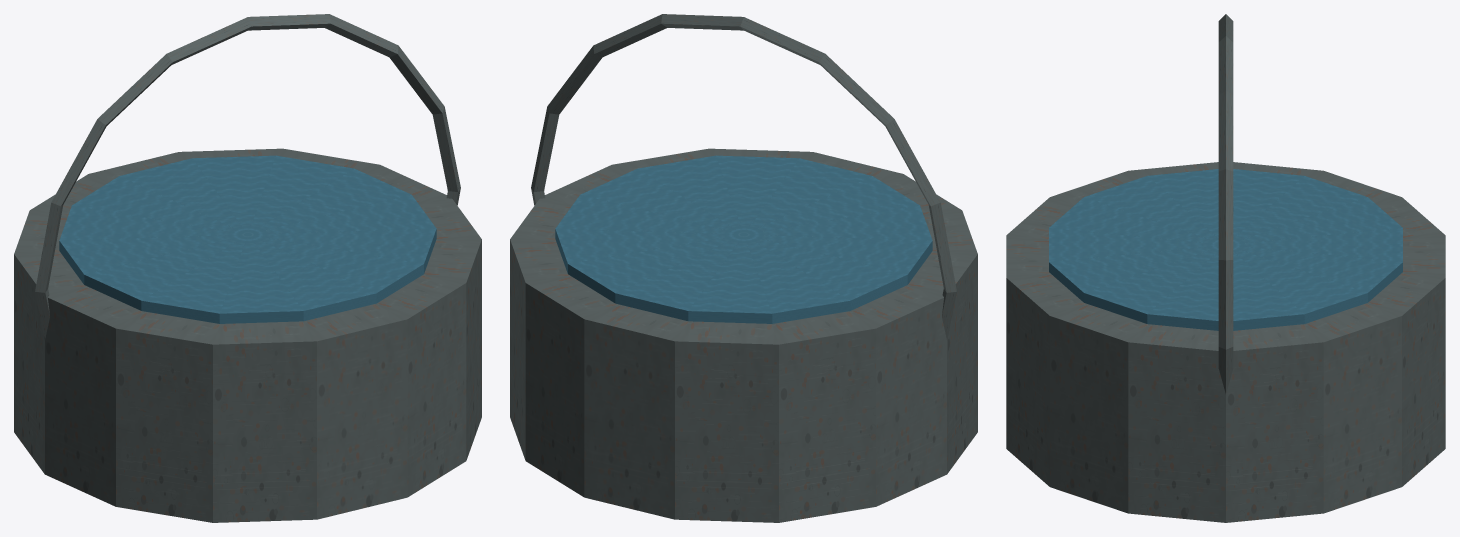
Rendered from en-020_rain_catcher_placement_set__basin.obj.
The picture shows the model from 3 angles, left to right: view 1: azimuth 30°, elevation 25°; view 2: azimuth 150°, elevation 25°; view 3: azimuth 270°, elevation 25°; orthographic projection. The views are drawn at different scales.
Parts seen in each view (by area): view 1: en-020_rain_catcher_placement_set__basin; view 2: en-020_rain_catcher_placement_set__basin; view 3: en-020_rain_catcher_placement_set__basin.
Part boxes in pixels (x1,y1,x2,y2): en-020_rain_catcher_placement_set__basin: (14, 14, 481, 522); en-020_rain_catcher_placement_set__basin: (510, 14, 977, 522); en-020_rain_catcher_placement_set__basin: (1006, 14, 1445, 522).
Size of the model in its own units: 0.65 by 0.65 by 0.6045.
2 materials, 2 textured.
